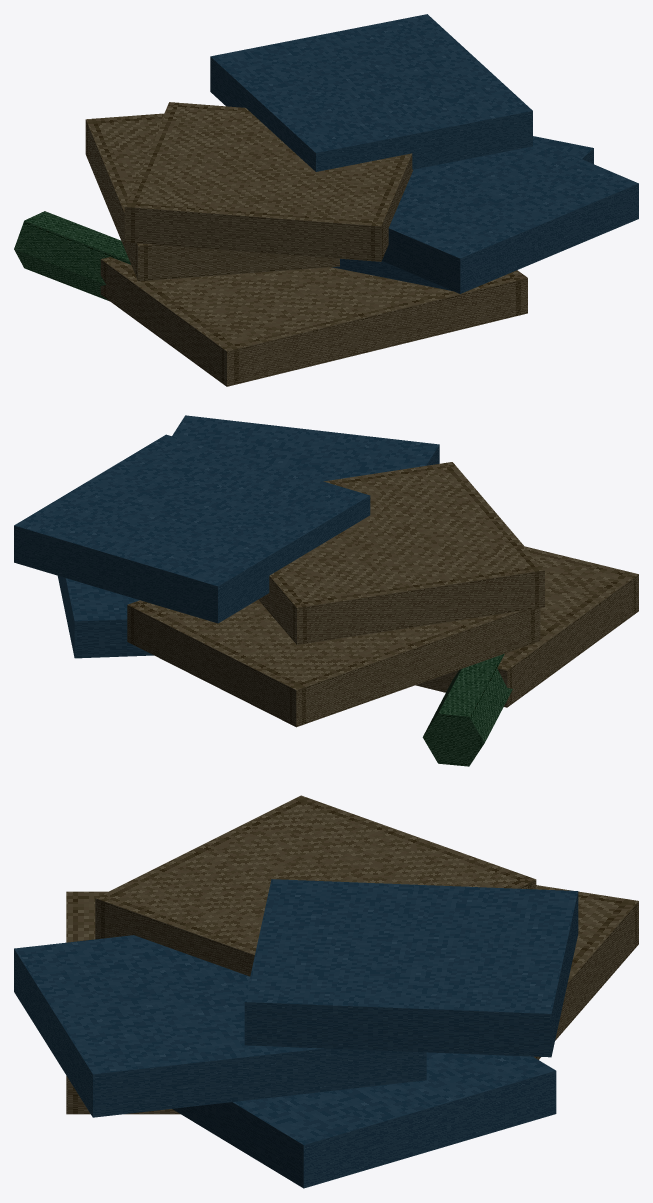
File: level_trace_clothes.glb
3 renders of one model, top to bottom at view 1: azimuth 30°, elevation 25°; view 2: azimuth 150°, elevation 25°; view 3: azimuth 270°, elevation 25°, orthographic. The views are drawn at different scales.
Parts seen in each view (by area): view 1: level_trace_clothes; view 2: level_trace_clothes; view 3: level_trace_clothes.
Part boxes in pixels (left/top/right/bottom): level_trace_clothes: left=14, top=14, right=638, bottom=386; level_trace_clothes: left=14, top=415, right=638, bottom=766; level_trace_clothes: left=14, top=795, right=638, bottom=1188.
Size of the model in its own units: 0.6601 by 0.1778 by 0.5884.
Materials: 3 (3 with a texture image).
